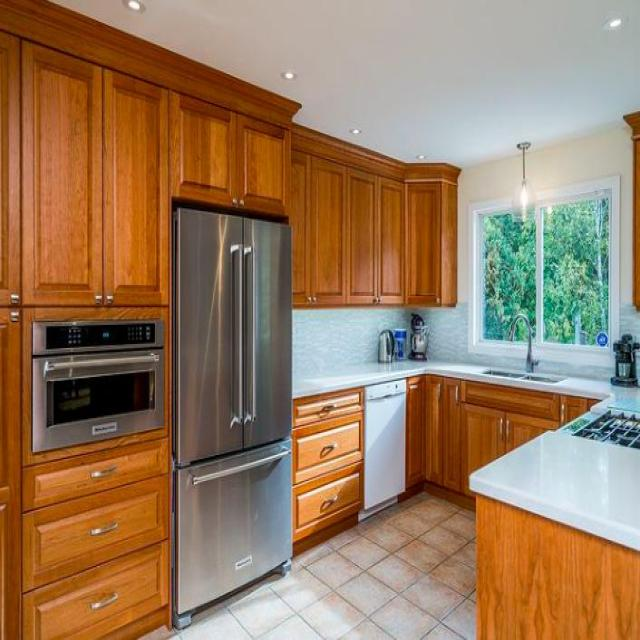dishwasher: (364, 377, 404, 517)
